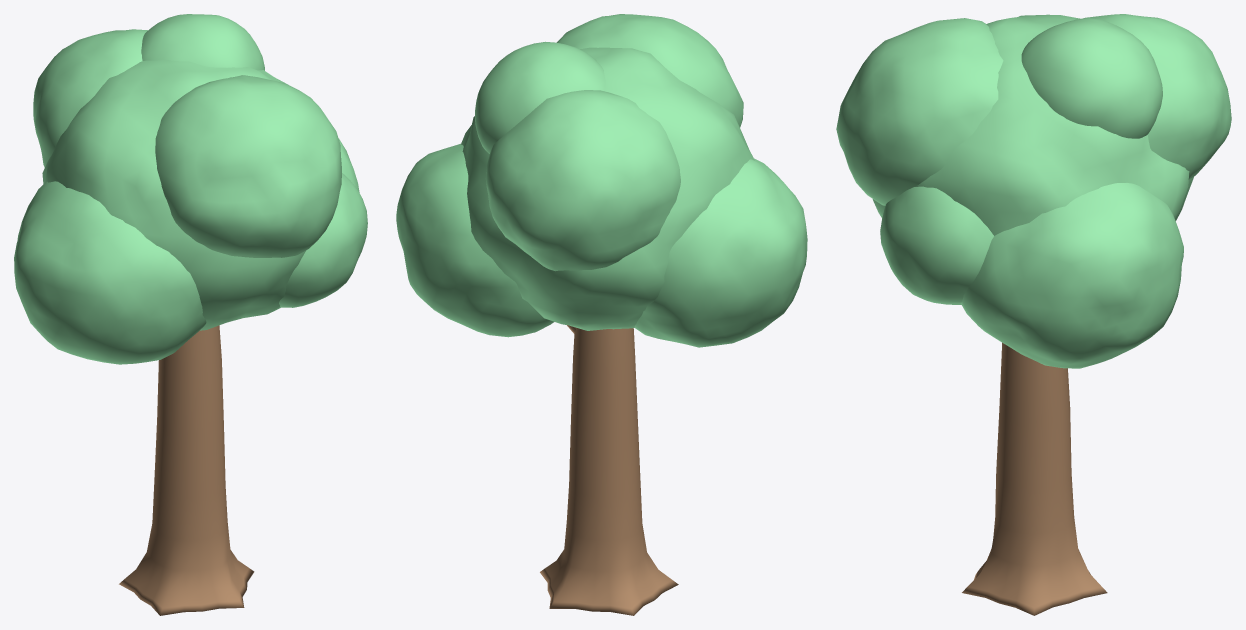
Rendered from tree.glb.
The picture shows the model from 3 angles, left to right: view 1: azimuth 30°, elevation 25°; view 2: azimuth 150°, elevation 25°; view 3: azimuth 270°, elevation 25°; orthographic projection. The views are drawn at different scales.
Parts seen in each view (by area): view 1: TreeLeaves, TreeTrunk; view 2: TreeLeaves, TreeTrunk; view 3: TreeLeaves, TreeTrunk.
Boxes of the visible parts, <box> form: TreeLeaves: <box>14,14,367,364</box>; TreeTrunk: <box>119,325,254,615</box>; TreeLeaves: <box>396,14,807,347</box>; TreeTrunk: <box>540,325,678,615</box>; TreeLeaves: <box>836,14,1231,368</box>; TreeTrunk: <box>962,342,1107,615</box>.
Size of the model in its own units: 3.55 by 5.21 by 3.26.
